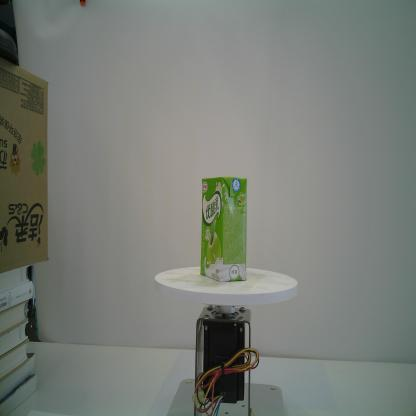Milk: (199, 176, 248, 283)
